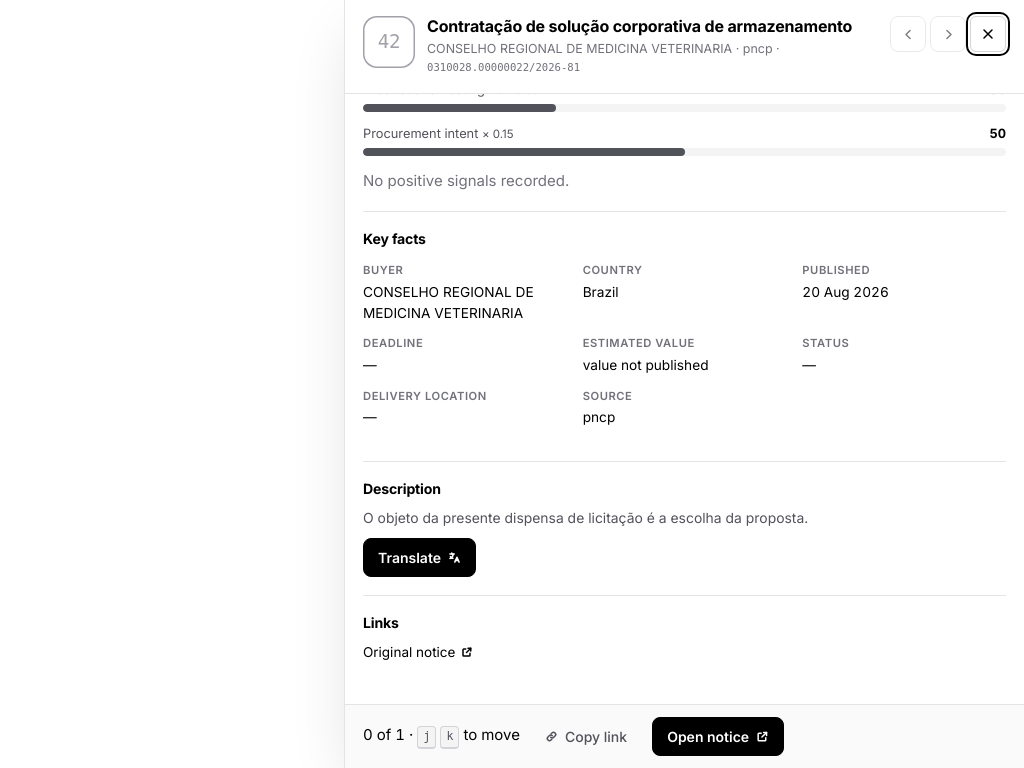
pressing it › replaces the description with the English text
(page scrolled)
Step 1. Click the button "Translate" → x=420, y=558, box [363,538,476,578]
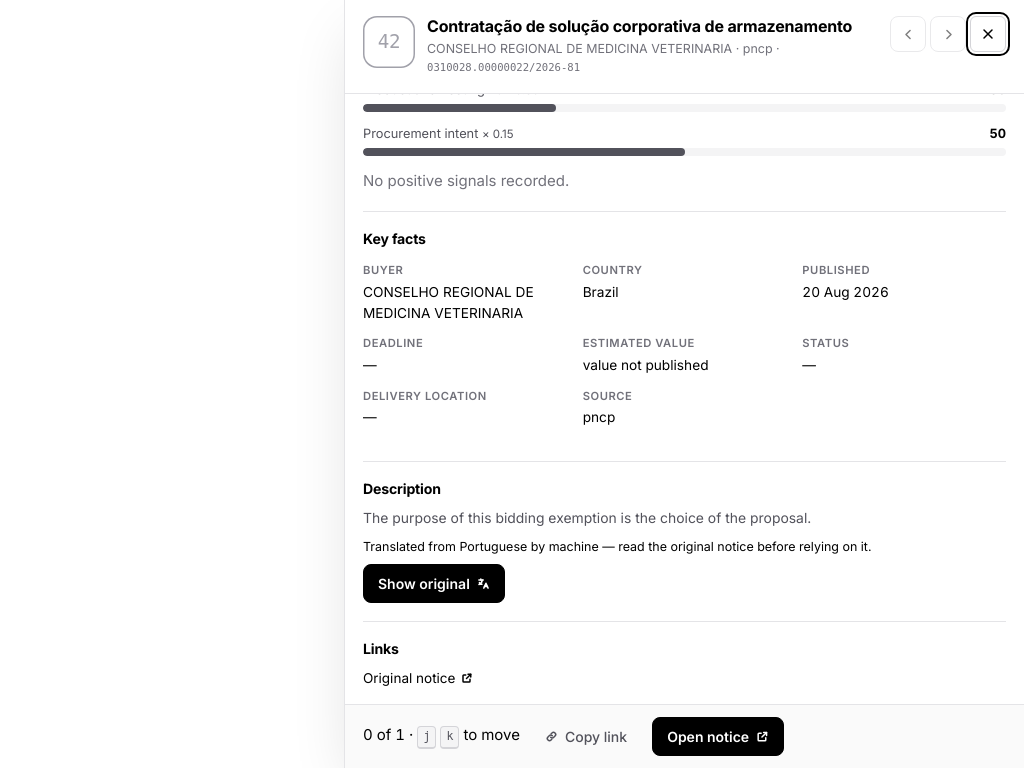
Result: the text with class "desc" reads "The purpose of this bidding exemption is the choice of the proposal." at [363,510,811,526]
